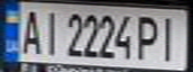2: (60, 8, 84, 59), (97, 10, 118, 60), (81, 9, 100, 60)
4: (112, 11, 139, 61)
A: (15, 7, 45, 55)
I: (154, 12, 184, 62), (39, 7, 63, 56)
P: (136, 11, 163, 61)
